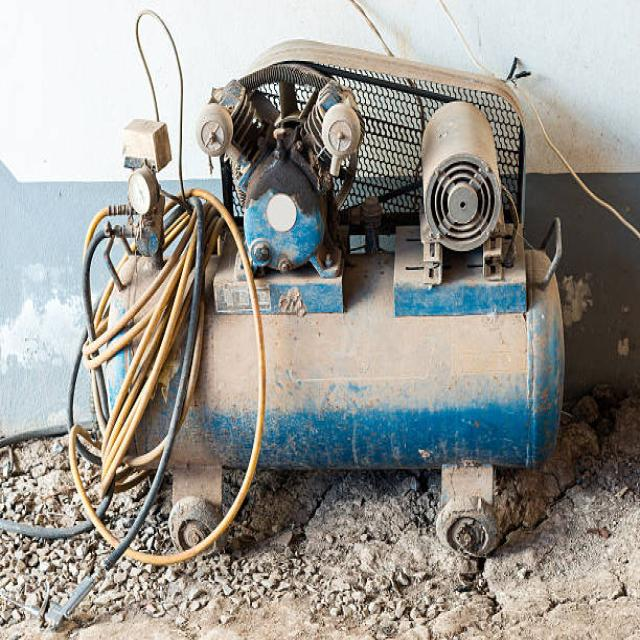compressor: (65, 16, 567, 573), (194, 38, 528, 312)
